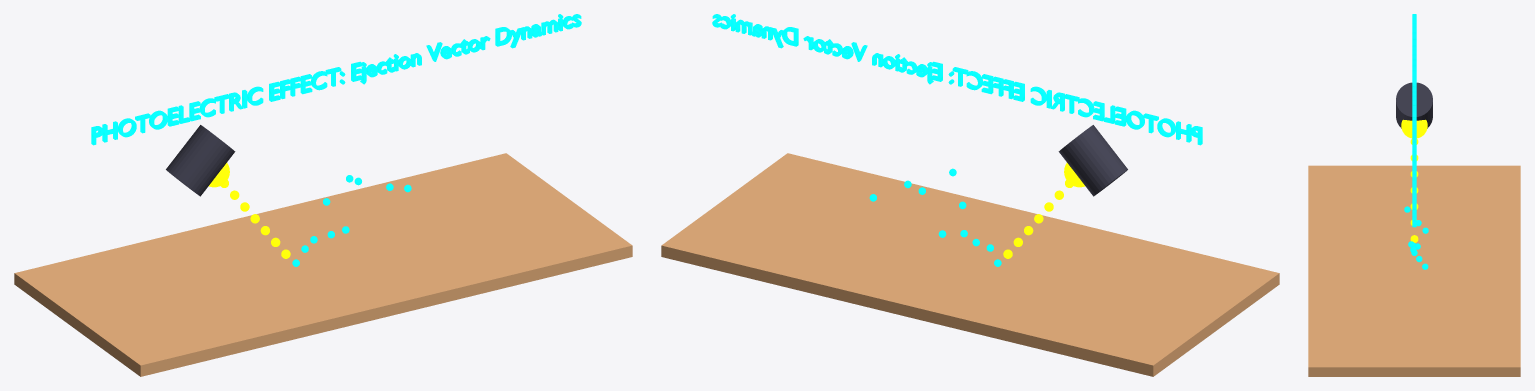
The model's file is photoelectric1.glb.
The picture shows the model from 3 angles, left to right: view 1: azimuth 30°, elevation 25°; view 2: azimuth 150°, elevation 25°; view 3: azimuth 270°, elevation 25°; orthographic projection. The views are drawn at different scales.
Parts seen in each view (by area): view 1: Metal_Target_Plate, Text, Light_Source_Housing; view 2: Metal_Target_Plate, Text, Light_Source_Housing; view 3: Metal_Target_Plate, Light_Source_Housing, Text, Light_Bulb_Emitter.
Part boxes in pixels (x1=…): Metal_Target_Plate: x1=14, y1=153, x2=632, y2=376; Text: x1=91, y1=14, x2=581, y2=145; Light_Source_Housing: x1=166, y1=125, x2=235, y2=196; Metal_Target_Plate: x1=661, y1=153, x2=1279, y2=376; Text: x1=712, y1=14, x2=1202, y2=145; Light_Source_Housing: x1=1058, y1=125, x2=1127, y2=196; Metal_Target_Plate: x1=1308, y1=165, x2=1520, y2=376; Light_Source_Housing: x1=1396, y1=82, x2=1432, y2=128; Text: x1=1412, y1=14, x2=1416, y2=227; Light_Bulb_Emitter: x1=1401, y1=119, x2=1427, y2=138.
Bounding box in the file's own units: 18.41 × 6.97 × 8.
